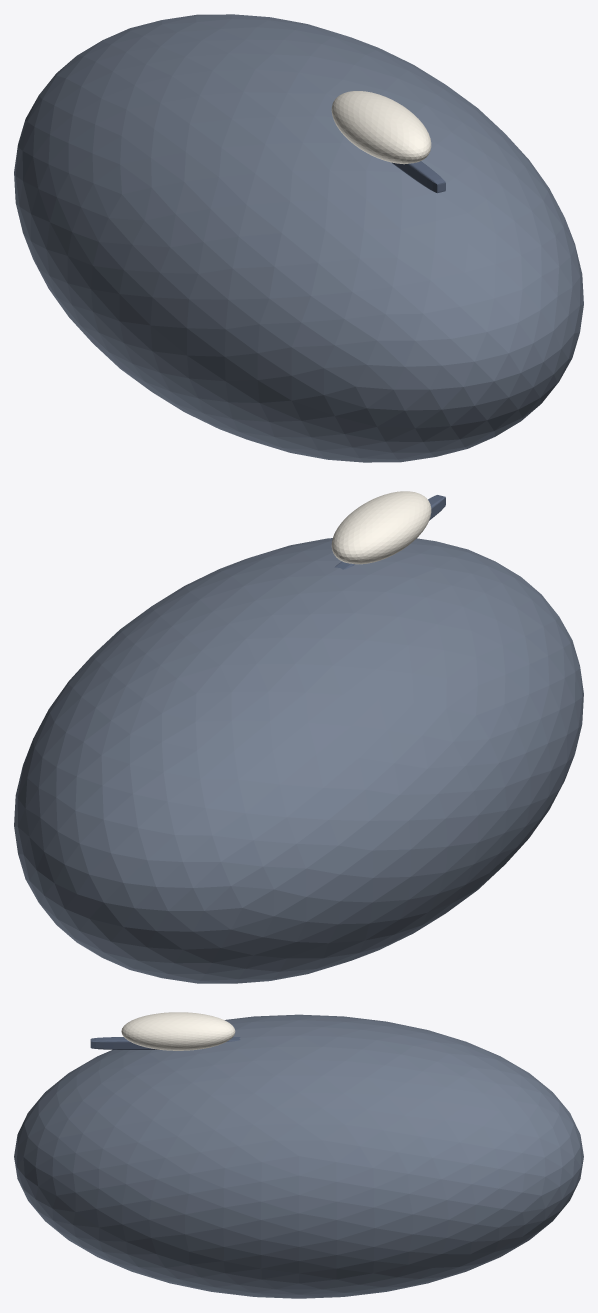
File: mouse.glb
The picture shows the model from 3 angles, top to bottom: view 1: azimuth 30°, elevation 25°; view 2: azimuth 150°, elevation 25°; view 3: azimuth 270°, elevation 25°; orthographic projection. The views are drawn at different scales.
Visible parts, largest first — view 1: body, wheel, split; view 2: body, wheel; view 3: body, wheel, split.
Part boxes in pixels (x1,y1,x2,y2): body: (14,14,583,462); wheel: (331,91,431,164); split: (391,161,445,193); body: (14,538,583,983); wheel: (331,491,431,564); body: (14,1014,583,1298); wheel: (121,1012,235,1050); split: (90,1037,240,1049).
Bounding box in the file's own units: 0.16 × 0.132 × 0.26.
